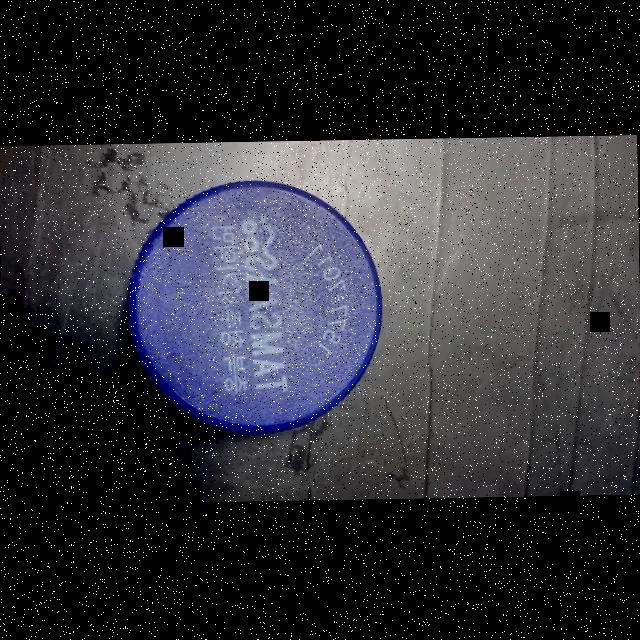plastic_bottle_cap: (118, 172, 394, 452)
